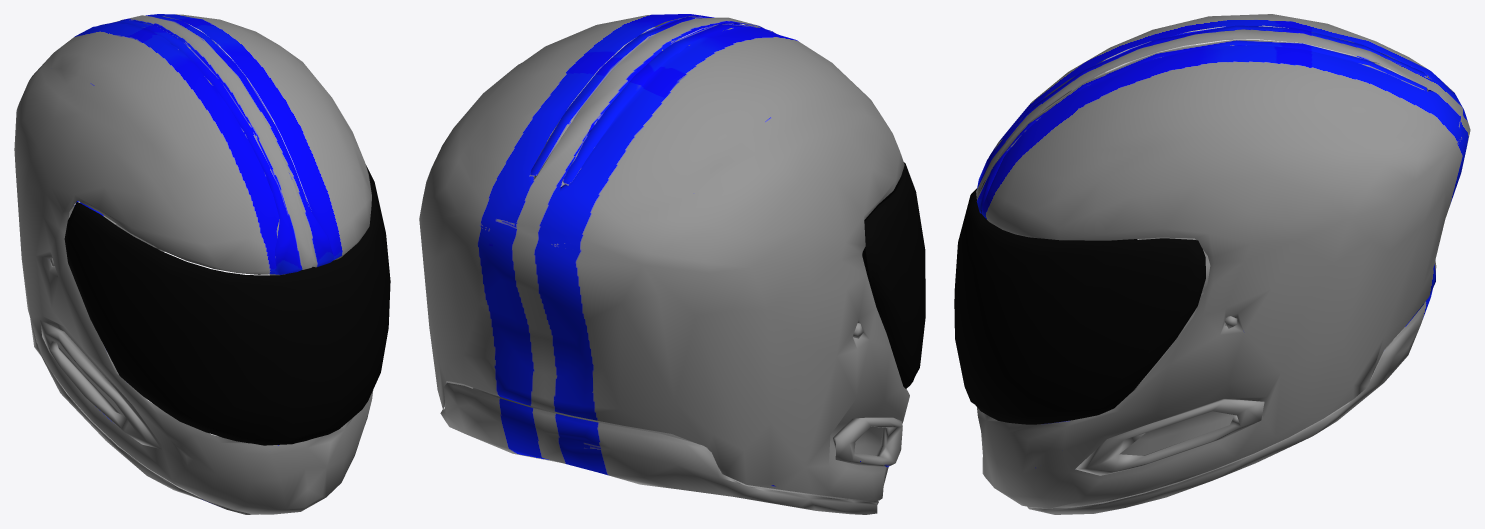
File: JJHhead_veta_3.fbx
The picture shows the model from 3 angles, left to right: view 1: azimuth 30°, elevation 25°; view 2: azimuth 150°, elevation 25°; view 3: azimuth 270°, elevation 25°; orthographic projection. The views are drawn at different scales.
Parts seen in each view (by area): view 1: polySurface5, polySurface4; view 2: polySurface5, polySurface4; view 3: polySurface5, polySurface4.
Part boxes in pixels (x1,y1,x2,y2): polySurface5: (14,14,373,514); polySurface4: (64,165,390,445); polySurface5: (419,14,909,514); polySurface4: (862,162,925,388); polySurface5: (976,14,1470,514); polySurface4: (954,180,1205,424).
Size of the model in its own units: 468 by 615 by 627.
